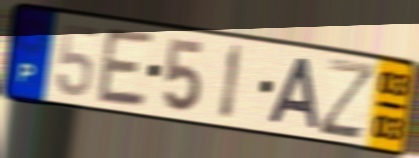5: (162, 35, 208, 114), (54, 20, 100, 99)
A: (265, 54, 322, 132)
E: (94, 24, 157, 111)
I: (217, 41, 246, 124)
Z: (316, 55, 379, 142)
